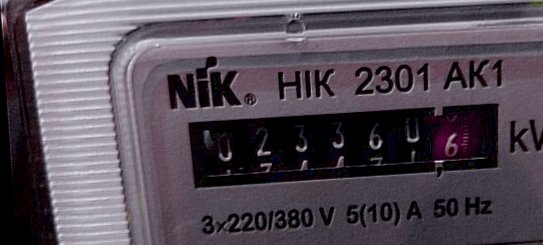0: (213, 129, 236, 164), (403, 113, 422, 145)
2: (251, 124, 276, 159)
3: (289, 121, 312, 155), (327, 118, 348, 150)
6: (364, 118, 386, 152), (439, 128, 462, 159)
screen: (169, 84, 517, 204)
